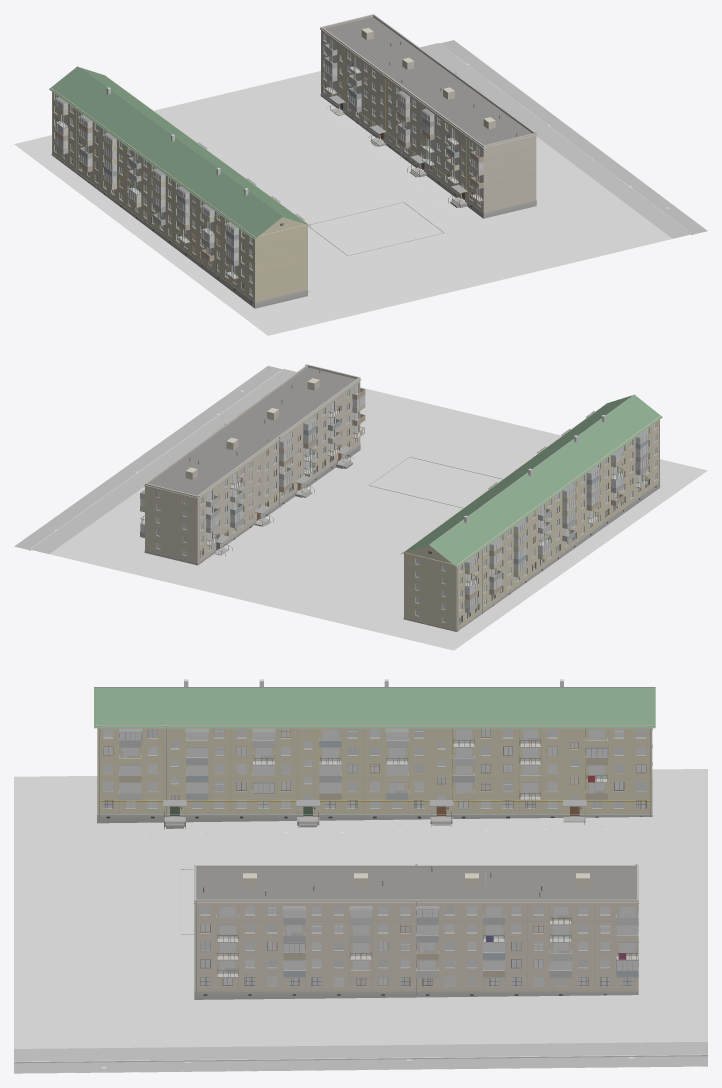
File: chunk_0_0.glb
3 views of the same model, one above another, from view 1: azimuth 30°, elevation 25°; view 2: azimuth 150°, elevation 25°; view 3: azimuth 270°, elevation 25° (orthographic). The views are drawn at different scales.
Parts seen in each view (by area): view 1: base, detail; view 2: base, detail; view 3: base, detail.
Boxes of the visible parts, x1,y1,x2,y2 form: base: (14,14,707,335); detail: (51,27,537,305); base: (14,364,707,650); detail: (140,364,660,631); base: (14,679,707,1073); detail: (94,687,655,997).
Size of what is drawn, in the model's own units: 100 by 20.32 by 100.
